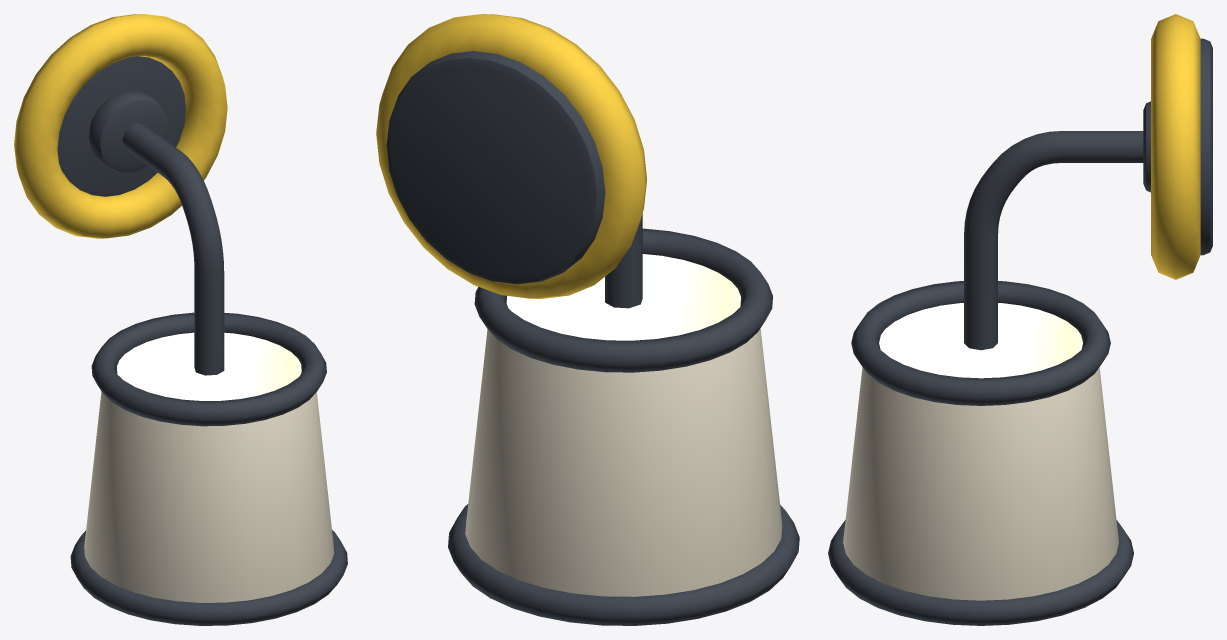
Rendered from arandela_cupula.glb.
3 views of the same model, side by side, from view 1: azimuth 30°, elevation 25°; view 2: azimuth 150°, elevation 25°; view 3: azimuth 270°, elevation 25° (orthographic). The views are drawn at different scales.
Parts seen in each view (by area): view 1: arandela_cupula; view 2: arandela_cupula; view 3: arandela_cupula.
Boxes of the visible parts, <box> form: arandela_cupula: <box>14,14,347,625</box>; arandela_cupula: <box>376,14,799,625</box>; arandela_cupula: <box>828,14,1212,625</box>.
Size of the model in its own units: 0.198 by 0.3838 by 0.249.
2 materials, 1 textured.
